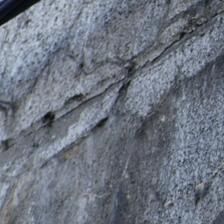Crack: (7, 14, 221, 155)
